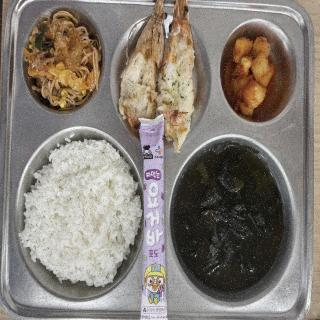Nasi: (22, 134, 138, 292)
